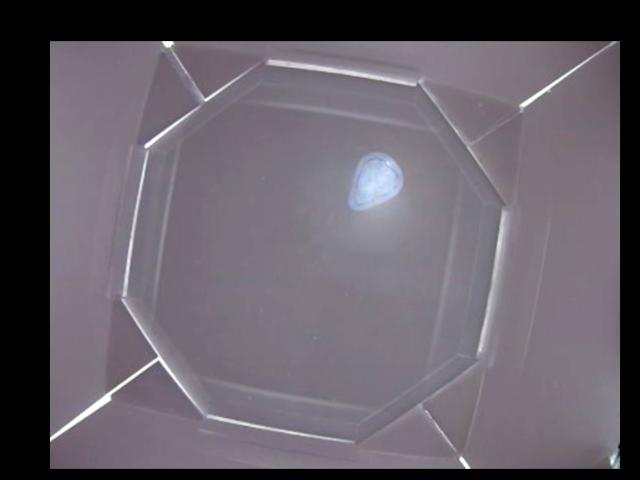Pebble: (348, 151, 406, 212)
